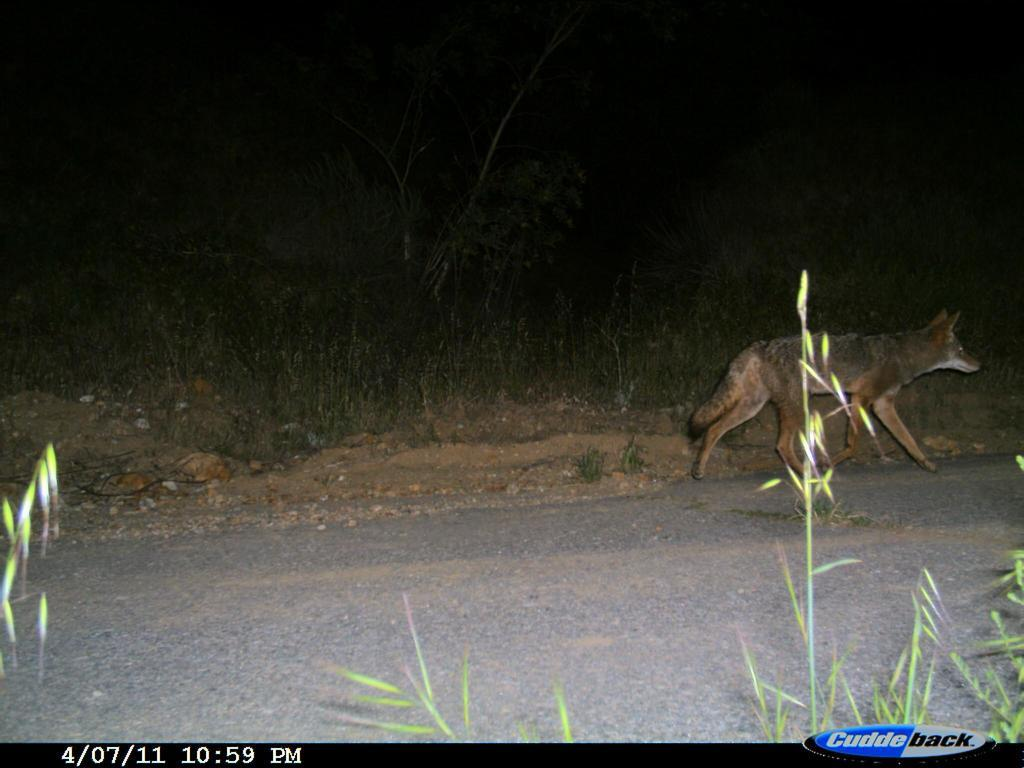coyote: (674, 295, 990, 527)
